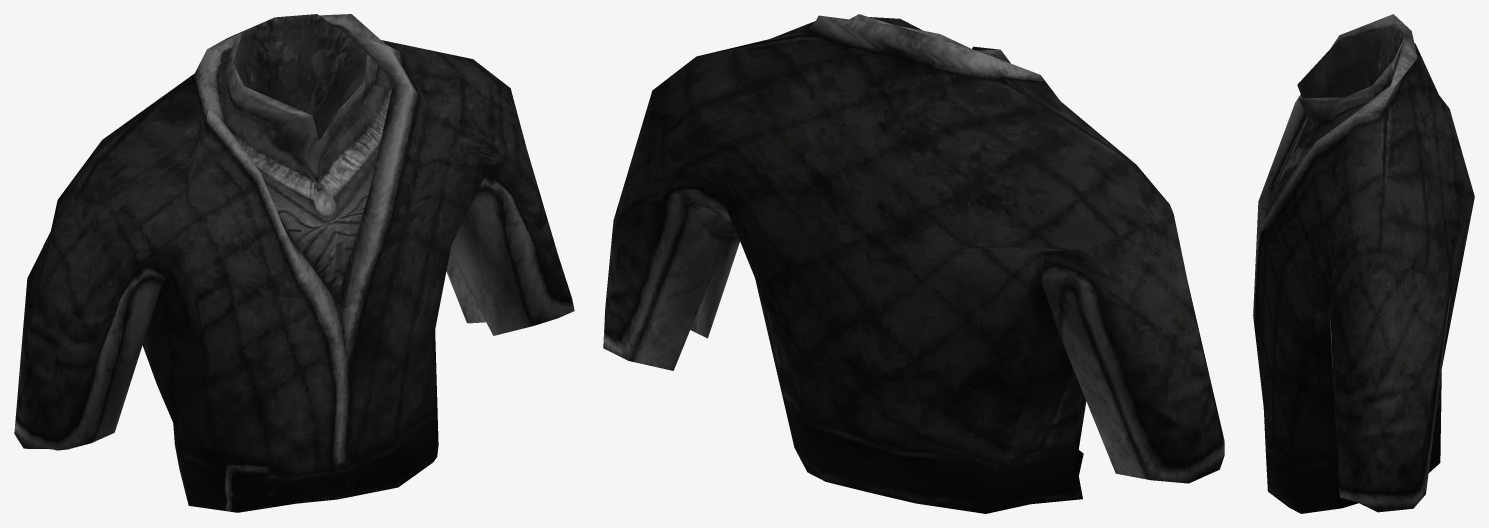
The model's file is STATIC_GS_ZBROJA_SKYRIM_CZORNY_01.glb.
3 views of the same model, side by side, from view 1: azimuth 30°, elevation 25°; view 2: azimuth 150°, elevation 25°; view 3: azimuth 270°, elevation 25° (orthographic). The views are drawn at different scales.
Parts seen in each view (by area): view 1: Mesh; view 2: Mesh; view 3: Mesh.
Boxes of the visible parts, <box> form: Mesh: <box>14,14,574,512</box>; Mesh: <box>603,14,1224,513</box>; Mesh: <box>1253,14,1474,513</box>.
Bounding box in the file's own units: 0.7093 × 0.5322 × 0.2506.
Materials: 1 (1 with a texture image).
